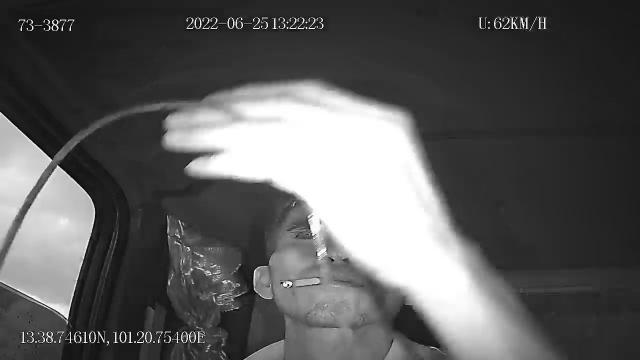Smoking: (282, 275, 321, 289)
